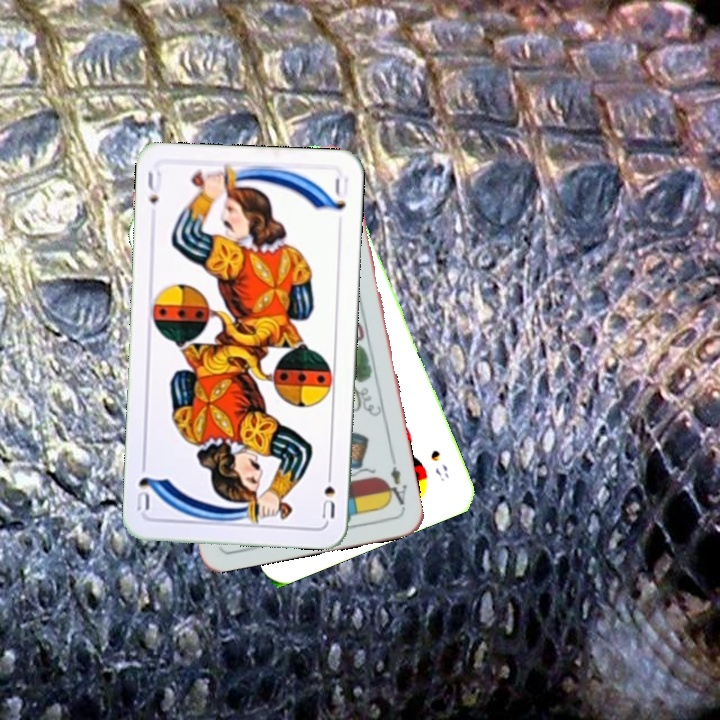EA: (381, 452, 410, 511)
S8: (426, 446, 452, 484)
SU: (318, 464, 338, 521), (143, 167, 161, 207)
